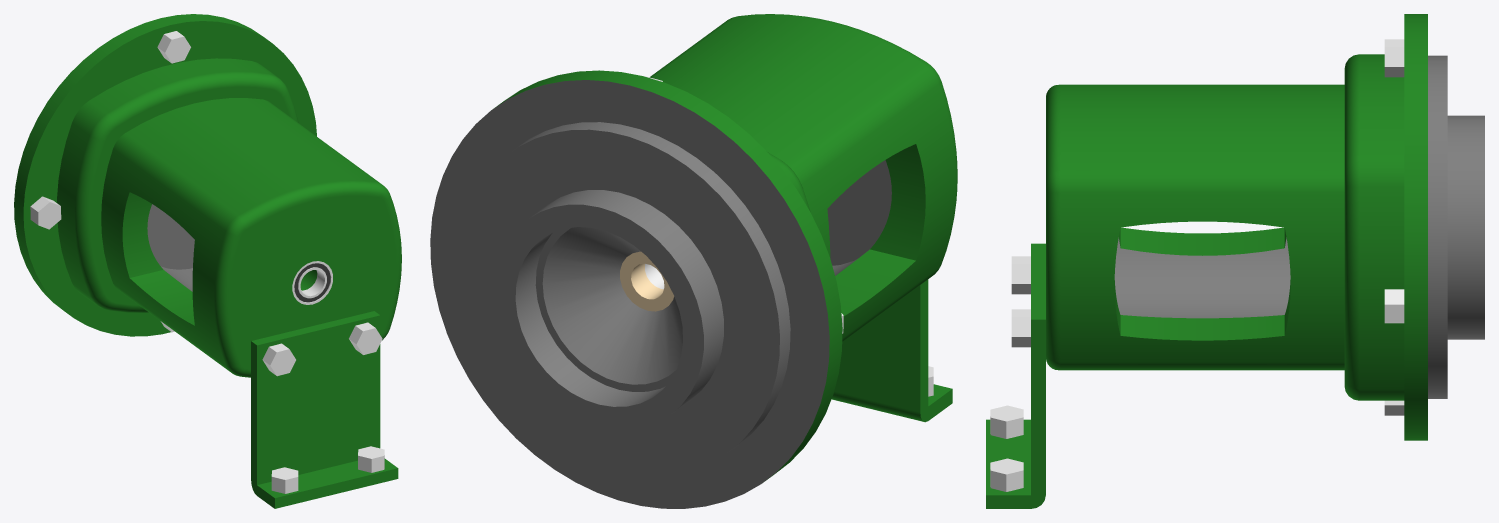
The model's file is Lagerung_pos.obj.
3 renders of one model, left to right at view 1: azimuth 30°, elevation 25°; view 2: azimuth 150°, elevation 25°; view 3: azimuth 270°, elevation 25°, orthographic. The views are drawn at different scales.
Visible parts, largest first — view 1: Volumenkörper1; view 2: Volumenkörper1; view 3: Volumenkörper1.
Boxes of the visible parts, left/top/right/bottom form: Volumenkörper1: left=14, top=14, right=401, bottom=508; Volumenkörper1: left=430, top=14, right=957, bottom=508; Volumenkörper1: left=986, top=14, right=1484, bottom=508.
Size of the model in its own units: 0.2859 by 0.323 by 0.334.
